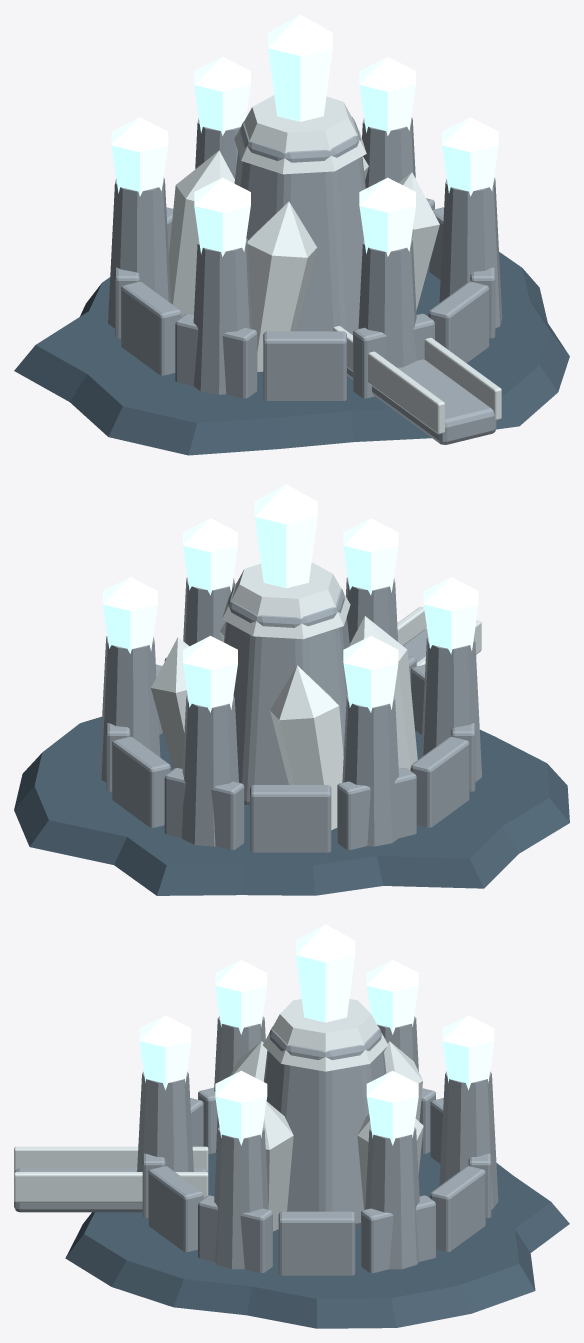
Rendered from frozen-crown-lod0.glb.
The picture shows the model from 3 angles, top to bottom: view 1: azimuth 30°, elevation 25°; view 2: azimuth 150°, elevation 25°; view 3: azimuth 270°, elevation 25°; orthographic projection. The views are drawn at different scales.
Parts seen in each view (by area): view 1: STONE_TERRAIN_SOCKET, STONE_CENTRAL_KEEP, CRYSTAL_BUTTRESS_2, STONE_ICE_TOWER_3, TRIM_KEEP_CROWN, STONE_GLACIER_WALL_08, FX_CORE_BEACON, STONE_ICE_TOWER_5, STONE_ICE_TOWER_2, STONE_ICE_TOWER_4, CRYSTAL_BUTTRESS_1, STONE_GLACIER_WALL_06 (+18 smaller); view 2: STONE_TERRAIN_SOCKET, STONE_CENTRAL_KEEP, CRYSTAL_BUTTRESS_1, STONE_ICE_TOWER_1, STONE_ICE_TOWER_2, STONE_GLACIER_WALL_04, TRIM_KEEP_CROWN, FX_CORE_BEACON, STONE_ICE_TOWER_3, STONE_ICE_TOWER_0, STONE_GLACIER_WALL_06, STONE_GLACIER_WALL_02 (+16 smaller); view 3: STONE_TERRAIN_SOCKET, STONE_CENTRAL_KEEP, STONE_ICE_TOWER_0, STONE_ICE_TOWER_5, STONE_GLACIER_WALL_00, TRIM_KEEP_CROWN, STONE_ICE_TOWER_1, FX_CORE_BEACON, STONE_ICE_TOWER_4, TRIM_BRIDGE_RAIL_1, STONE_GLACIER_WALL_02, STONE_GLACIER_WALL_10 (+22 smaller).
Boxes of the visible parts, box(x1,y1,x2,y2) form: STONE_TERRAIN_SOCKET: box(14, 252, 569, 455); STONE_CENTRAL_KEEP: box(234, 117, 365, 334); CRYSTAL_BUTTRESS_2: box(247, 201, 317, 371); STONE_ICE_TOWER_3: box(193, 238, 251, 394); TRIM_KEEP_CROWN: box(234, 95, 366, 174); STONE_GLACIER_WALL_08: box(263, 331, 346, 400); FX_CORE_BEACON: box(268, 14, 332, 121); STONE_ICE_TOWER_5: box(439, 178, 502, 328); STONE_ICE_TOWER_2: box(108, 178, 170, 328); STONE_ICE_TOWER_4: box(358, 238, 416, 367); CRYSTAL_BUTTRESS_1: box(169, 150, 234, 316); STONE_GLACIER_WALL_06: box(121, 281, 181, 375); STONE_TERRAIN_SOCKET: box(14, 716, 569, 895); STONE_CENTRAL_KEEP: box(224, 583, 349, 805); CRYSTAL_BUTTRESS_1: box(270, 665, 343, 830); STONE_ICE_TOWER_1: box(181, 694, 238, 846); STONE_ICE_TOWER_2: box(342, 694, 398, 846); STONE_GLACIER_WALL_04: box(250, 785, 331, 852); TRIM_KEEP_CROWN: box(222, 562, 350, 639); FX_CORE_BEACON: box(254, 484, 317, 588); STONE_ICE_TOWER_3: box(421, 636, 481, 781); STONE_ICE_TOWER_0: box(99, 636, 160, 781); STONE_GLACIER_WALL_06: box(410, 736, 469, 827); STONE_GLACIER_WALL_02: box(112, 736, 170, 827); STONE_TERRAIN_SOCKET: box(65, 1151, 569, 1328); STONE_CENTRAL_KEEP: box(263, 1026, 386, 1227); STONE_ICE_TOWER_0: box(365, 1127, 419, 1269); STONE_ICE_TOWER_5: box(214, 1127, 268, 1269); STONE_GLACIER_WALL_00: box(278, 1211, 355, 1275); TRIM_KEEP_CROWN: box(263, 999, 387, 1071); STONE_ICE_TOWER_1: box(439, 1071, 498, 1209); FX_CORE_BEACON: box(296, 924, 355, 1022); STONE_ICE_TOWER_4: box(137, 1071, 193, 1171); TRIM_BRIDGE_RAIL_1: box(14, 1172, 208, 1202); STONE_GLACIER_WALL_02: box(430, 1166, 485, 1251); STONE_GLACIER_WALL_10: box(148, 1166, 203, 1251).
Size of the model in its own units: 1.78 by 1.16 by 1.95.
